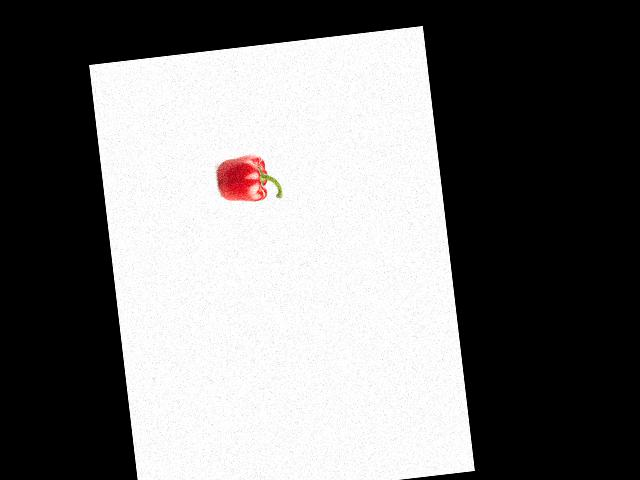bell_pepper: (214, 152, 284, 207)
